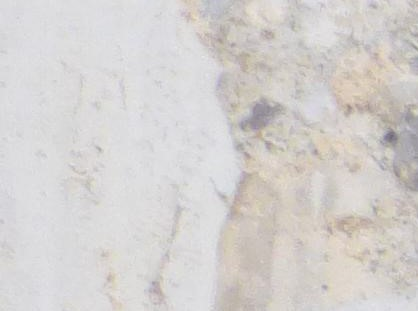Spalling: (177, 1, 418, 311)
